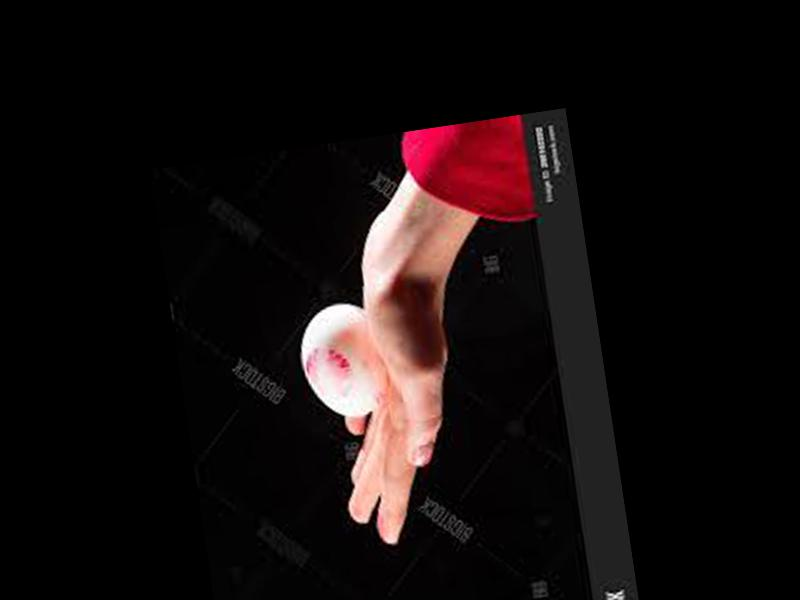Eggs: (293, 298, 385, 420)
